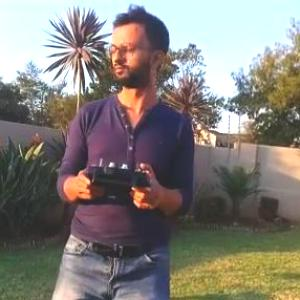follow: (46, 1, 192, 299)
